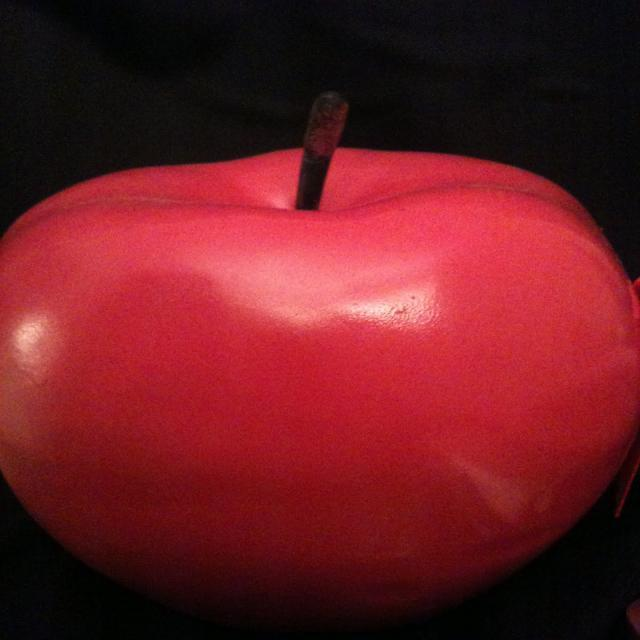APPLE: (0, 156, 640, 634)
